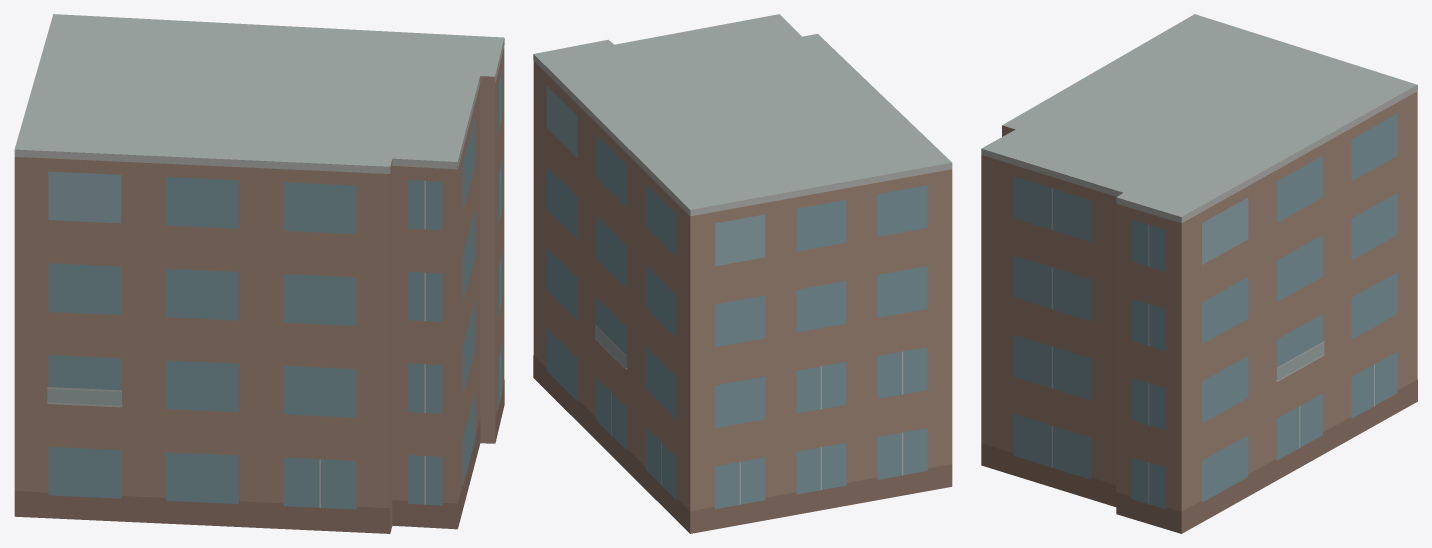
File: survey-upis-32720589.glb
The picture shows the model from 3 angles, left to right: view 1: azimuth 30°, elevation 25°; view 2: azimuth 150°, elevation 25°; view 3: azimuth 270°, elevation 25°; orthographic projection. The views are drawn at different scales.
Parts seen in each view (by area): view 1: survey-upis-32720589.tmp; view 2: survey-upis-32720589.tmp; view 3: survey-upis-32720589.tmp.
Boxes of the visible parts, x1=… form: survey-upis-32720589.tmp: x1=14, y1=14, x2=504, y2=533; survey-upis-32720589.tmp: x1=533, y1=14, x2=952, y2=533; survey-upis-32720589.tmp: x1=981, y1=14, x2=1417, y2=533.
Bounding box in the file's own units: 16.89 × 12.28 × 15.34.
